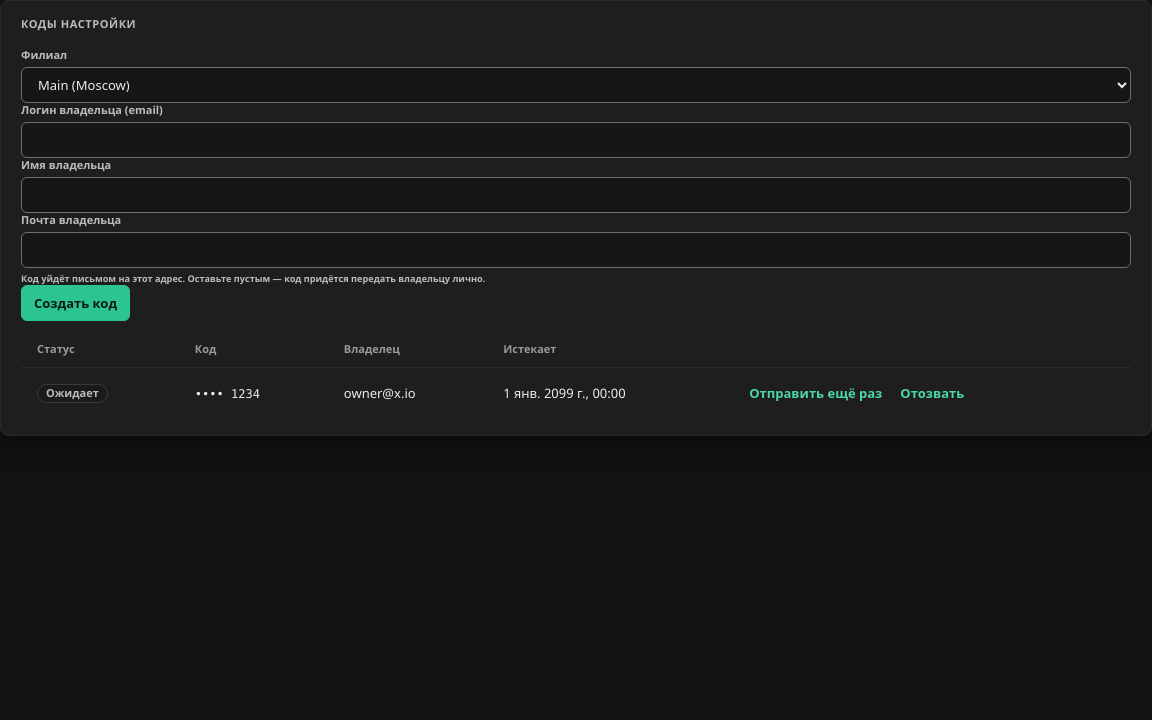
Test: отказ сервера при повторной отправке называет причину, а не общую фразу
This screenshot has width=1152, height=720.
Click the button "Отправить ещё раз" at (816, 393), box [740,379,891,407]
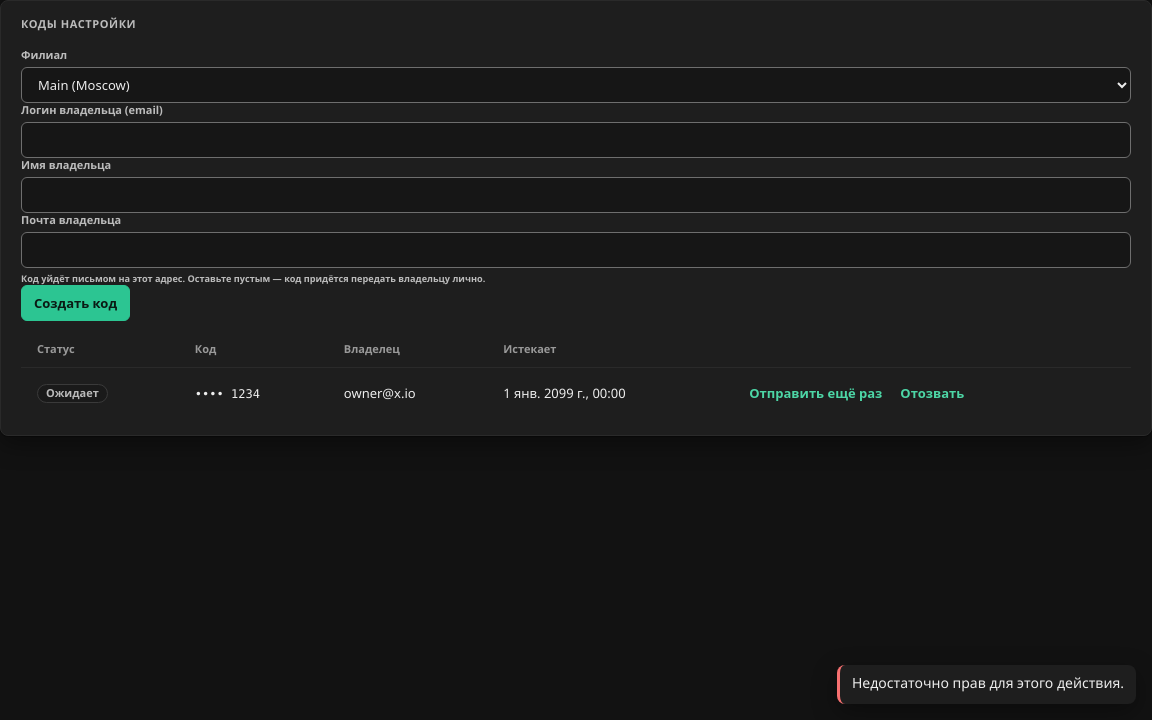
Expected: the text "Недостаточно прав для этого действия." is shown, [852,675,1124,694]
